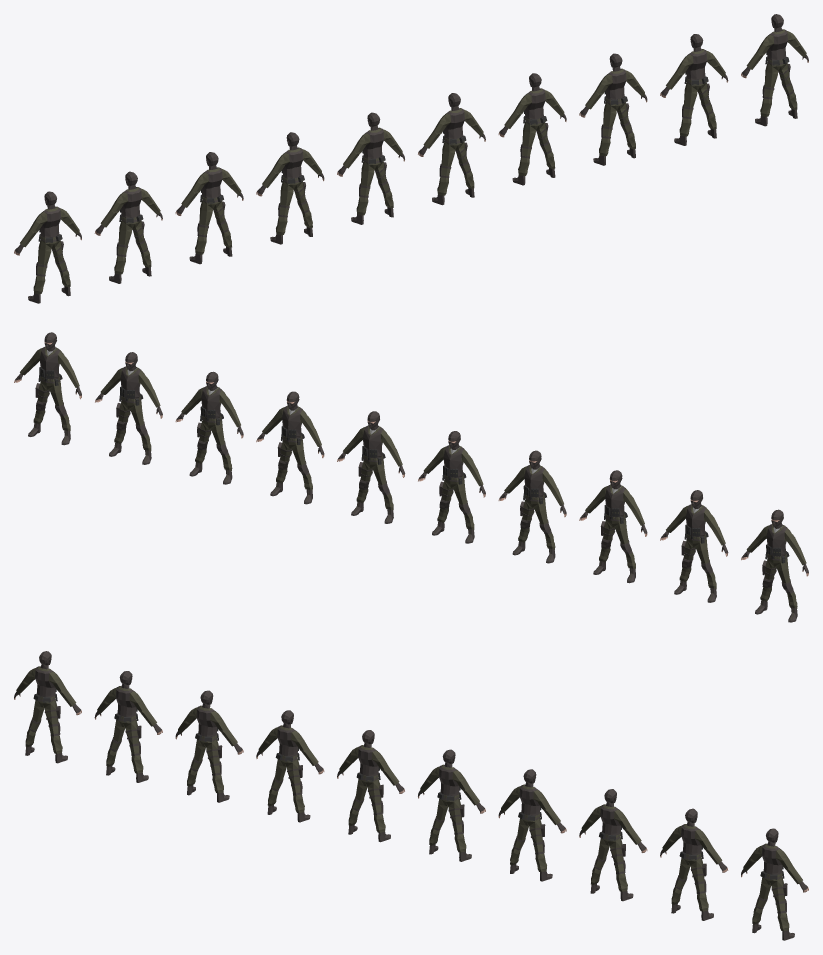
File: npc_bda80905.glb
3 views of the same model, one above another, from view 1: azimuth 30°, elevation 25°; view 2: azimuth 150°, elevation 25°; view 3: azimuth 330°, elevation 25° (orthographic).
Parts seen in each view (by area): view 1: npc_bda80905_10_soldiers; view 2: npc_bda80905_10_soldiers; view 3: npc_bda80905_10_soldiers.
Part boxes in pixels (box(x1,y1,x2,y2)): npc_bda80905_10_soldiers: box(14, 14, 808, 303); npc_bda80905_10_soldiers: box(14, 332, 808, 622); npc_bda80905_10_soldiers: box(14, 651, 808, 940).
Bounding box in the file's own units: 14.25 × 1.8 × 0.3422.
